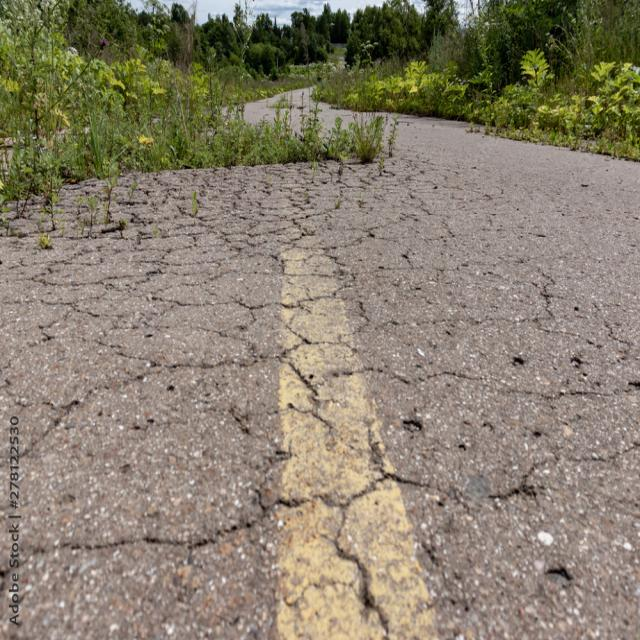Drain Hole: (194, 200, 361, 302)
Pothole: (101, 77, 475, 315)
